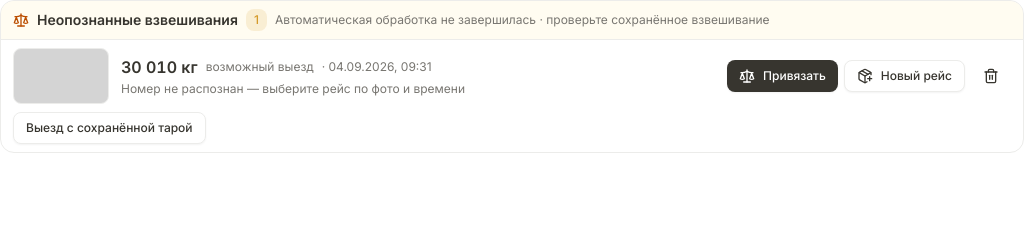
it: UnassignedWeighingsPanel › keeps a failed action's error inside the row
Step 1. Click the button named "Отклонить взвешивание" → (991, 76), box [971,60,1011,92]
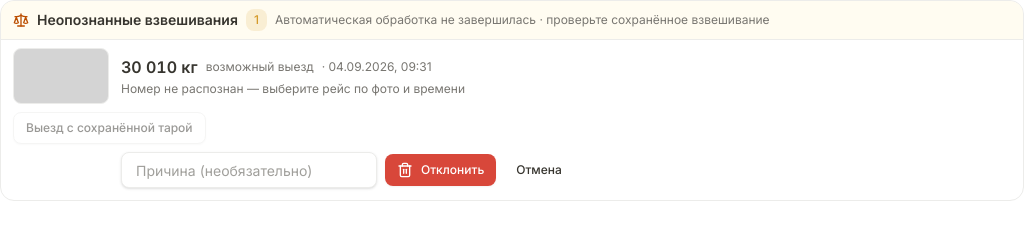
Step 2. Click the button "Отклонить" → (441, 170), box [385,154,496,186]
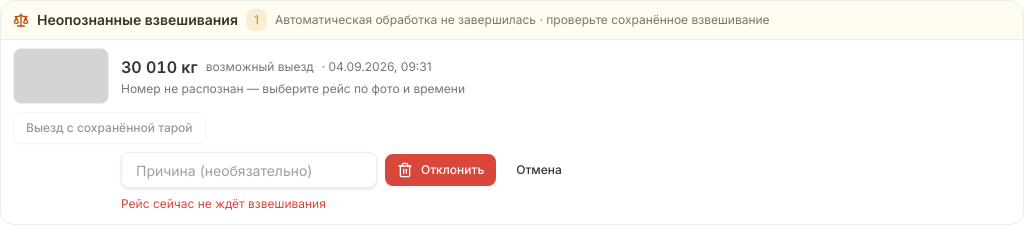
Check: the message reads "Рейс сейчас не ждёт взвешивания", box [121,196,326,211]
